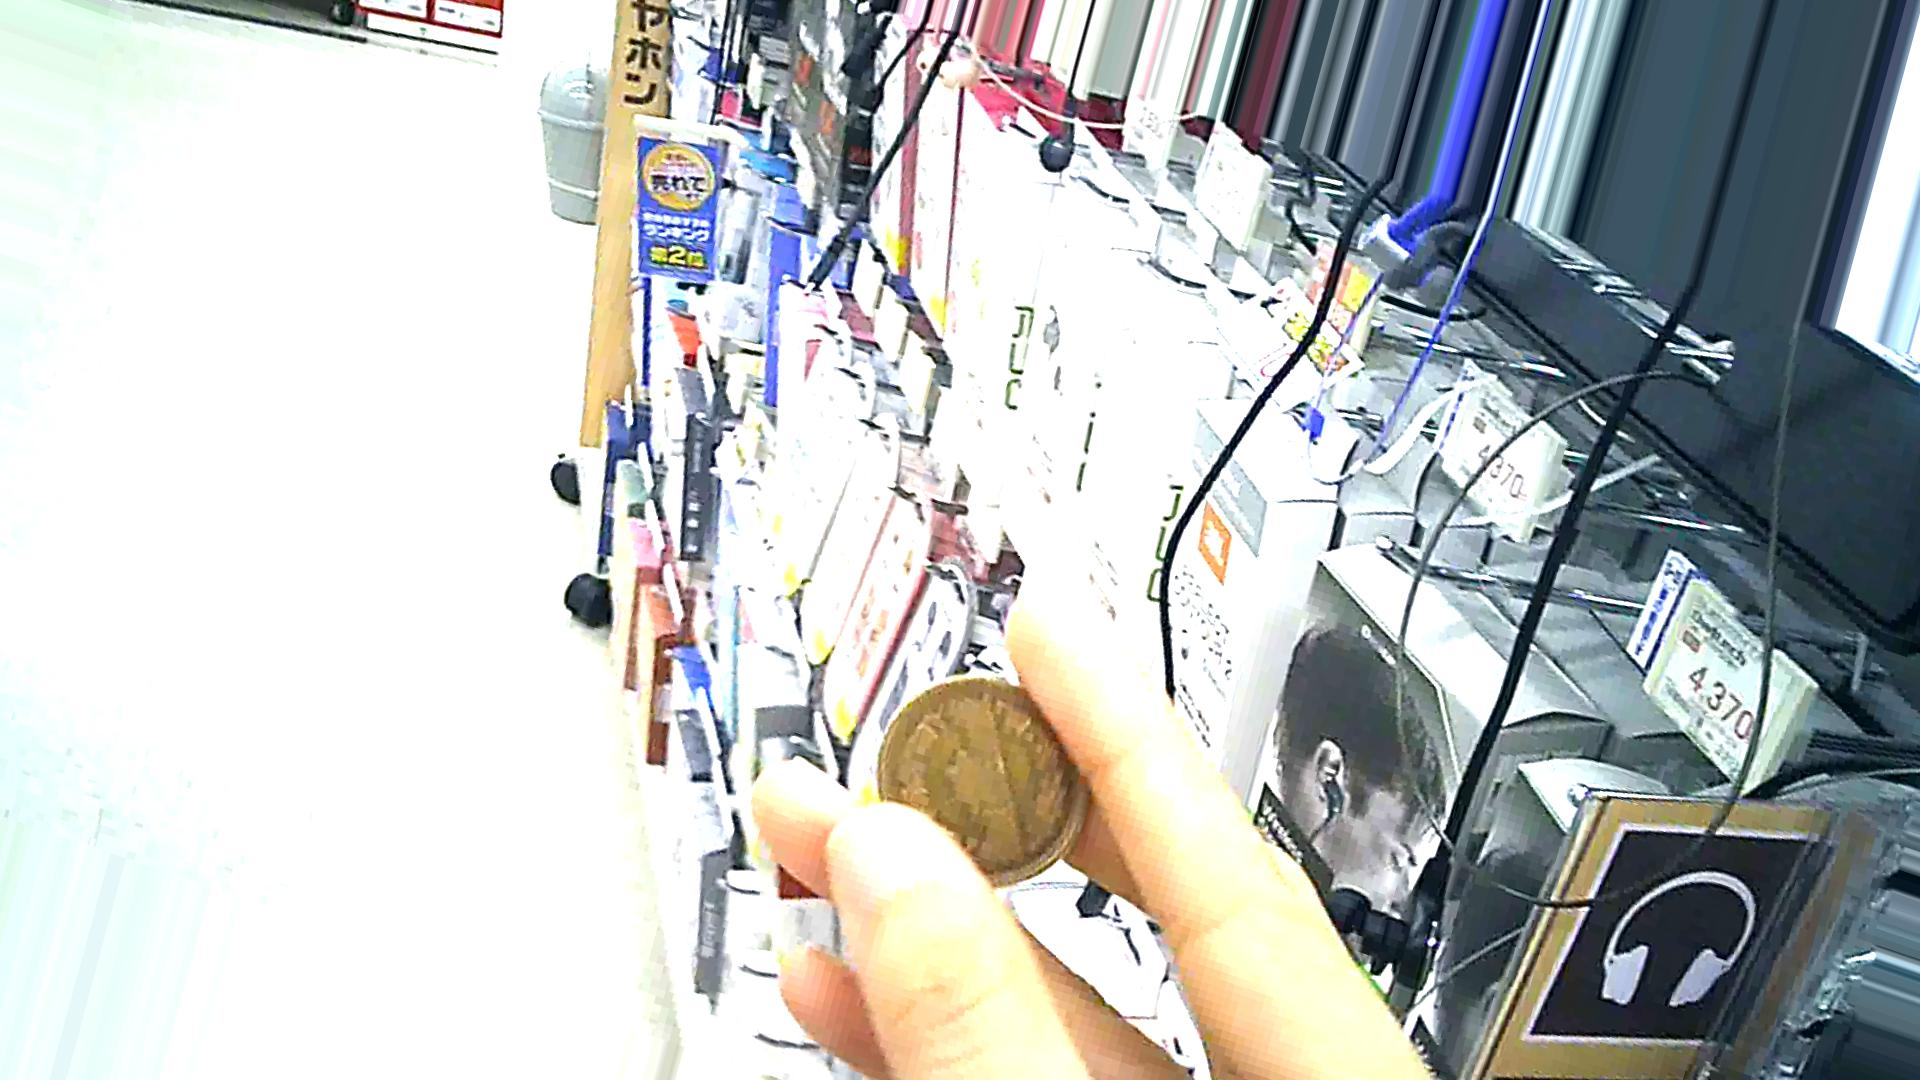10 Yen: (858, 662, 1096, 901)
